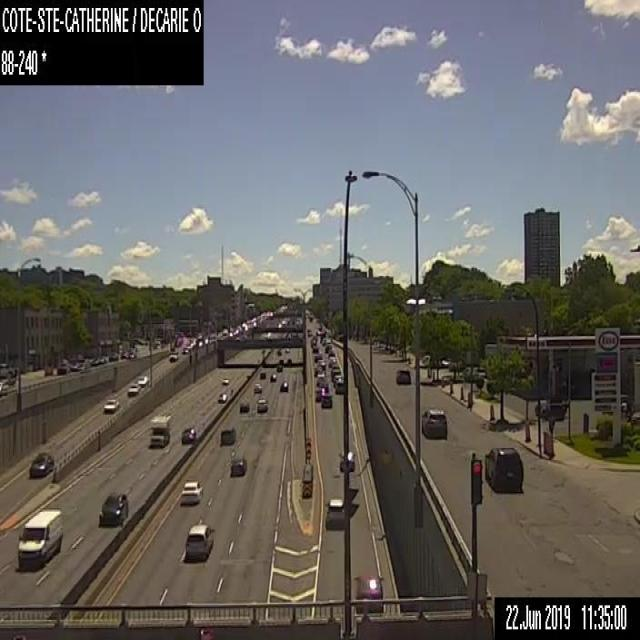vehicle: (17, 509, 62, 568), (484, 446, 524, 491), (352, 573, 383, 614), (98, 491, 128, 525), (184, 522, 214, 556), (420, 407, 446, 437), (149, 414, 171, 446), (28, 451, 54, 477), (323, 496, 342, 528), (180, 479, 203, 504), (338, 449, 354, 471), (230, 456, 246, 476), (220, 424, 235, 444), (395, 368, 410, 385), (102, 398, 119, 412), (181, 426, 196, 441), (314, 387, 327, 402), (320, 393, 332, 408), (256, 396, 268, 411), (127, 382, 140, 394), (56, 362, 70, 373), (333, 379, 343, 394), (524, 418, 530, 441), (239, 400, 249, 413), (333, 374, 342, 388), (330, 364, 340, 376), (138, 374, 148, 386), (331, 368, 340, 381), (318, 381, 328, 392), (328, 356, 338, 366), (279, 381, 288, 392), (315, 373, 324, 384), (168, 352, 178, 361), (217, 392, 227, 401), (489, 403, 494, 420), (253, 382, 261, 392), (313, 366, 321, 376), (317, 359, 325, 369), (89, 357, 99, 365), (108, 352, 118, 360), (314, 353, 322, 361), (324, 344, 332, 352), (327, 348, 335, 356), (467, 390, 471, 404), (120, 350, 127, 358), (275, 364, 282, 372), (269, 373, 275, 382), (449, 380, 453, 393), (259, 371, 266, 378), (181, 346, 188, 353), (459, 385, 463, 397), (128, 351, 136, 357), (312, 345, 318, 352), (276, 348, 282, 355), (221, 378, 229, 383), (321, 338, 326, 344), (286, 357, 291, 362), (426, 367, 429, 375), (441, 375, 443, 385), (278, 358, 283, 362), (284, 347, 288, 352), (432, 370, 434, 379)
